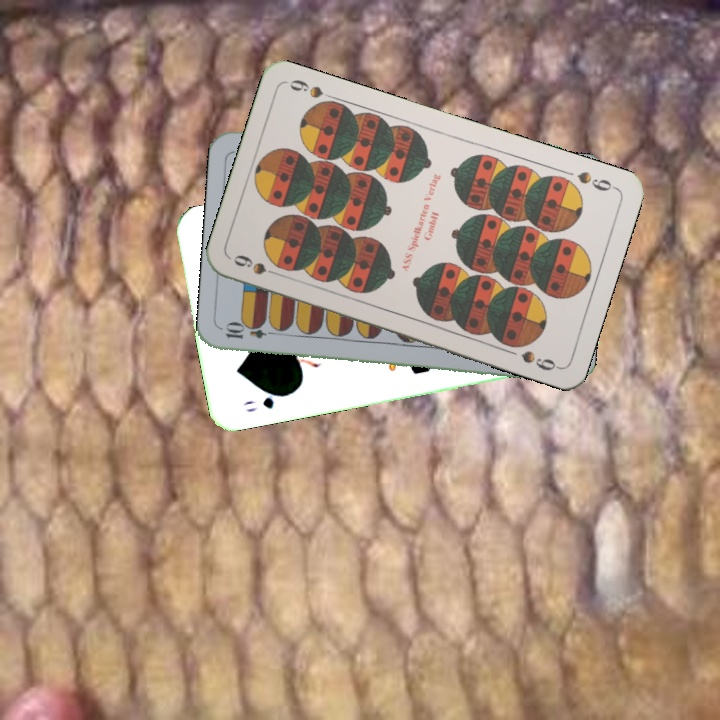E10: (221, 322, 280, 342)
GO: (239, 388, 291, 415)
S9: (229, 251, 286, 280), (573, 167, 619, 194)
